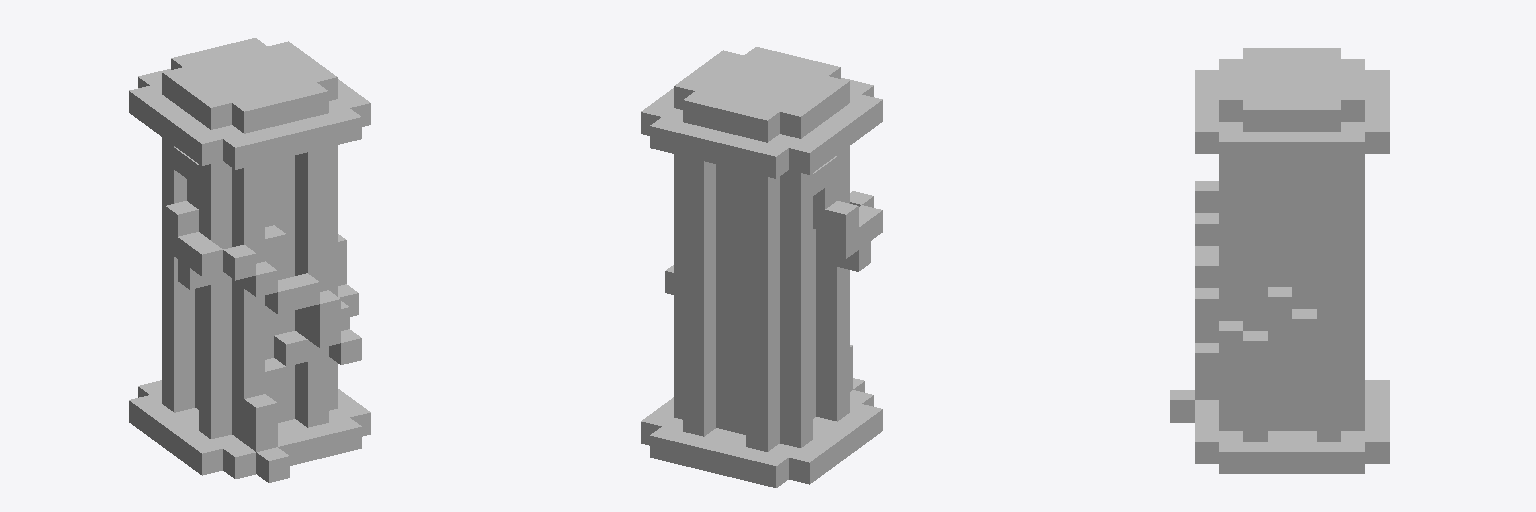
Rendered from altar.obj.
The picture shows the model from 3 angles: view 1: azimuth 30°, elevation 25°; view 2: azimuth 150°, elevation 25°; view 3: azimuth 270°, elevation 25°; orthographic projection.
Bounding box in the file's own units: 8 × 16 × 9.